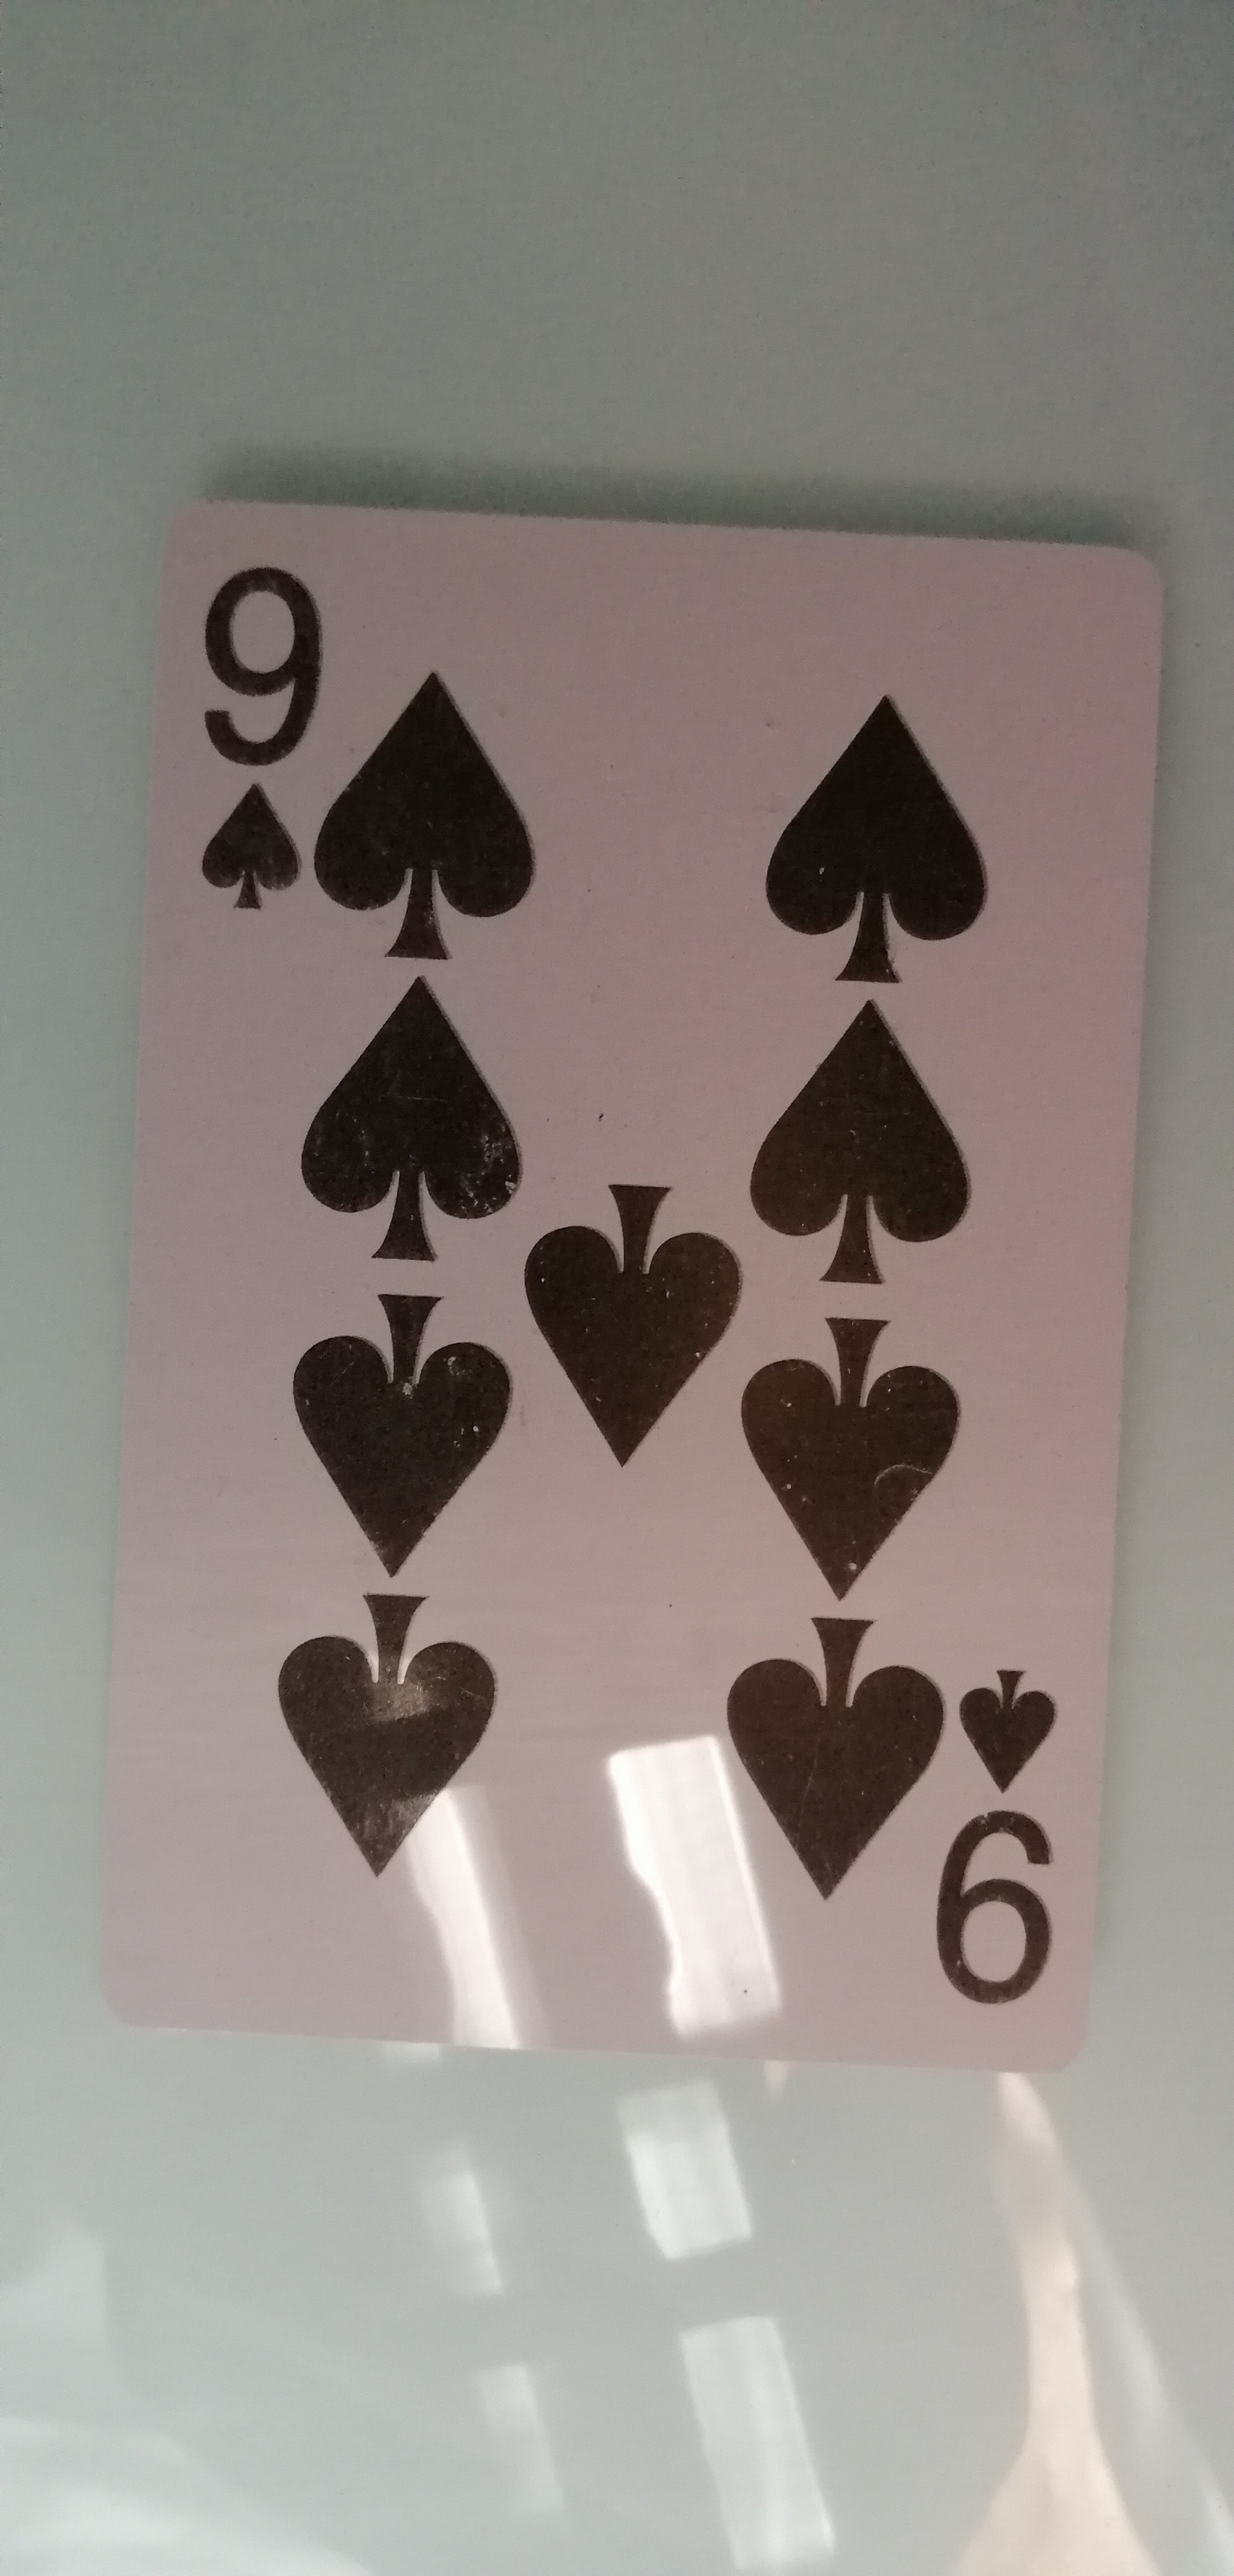nine: (133, 495, 1199, 2103)
